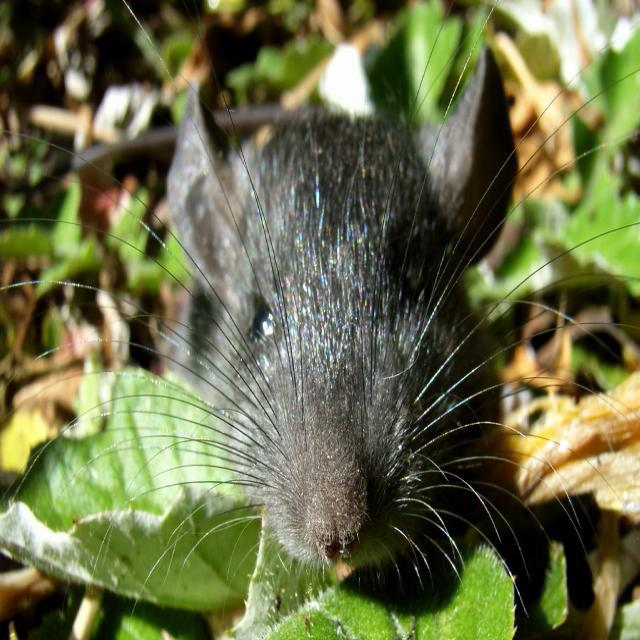rat: (120, 84, 633, 608)
